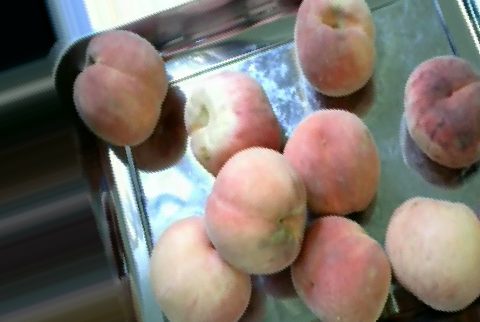Peach: (203, 144, 307, 276), (74, 30, 168, 148), (384, 196, 480, 311), (291, 212, 388, 322), (283, 107, 379, 218), (183, 70, 279, 177), (150, 217, 247, 320), (402, 56, 479, 169), (294, 0, 376, 98)
